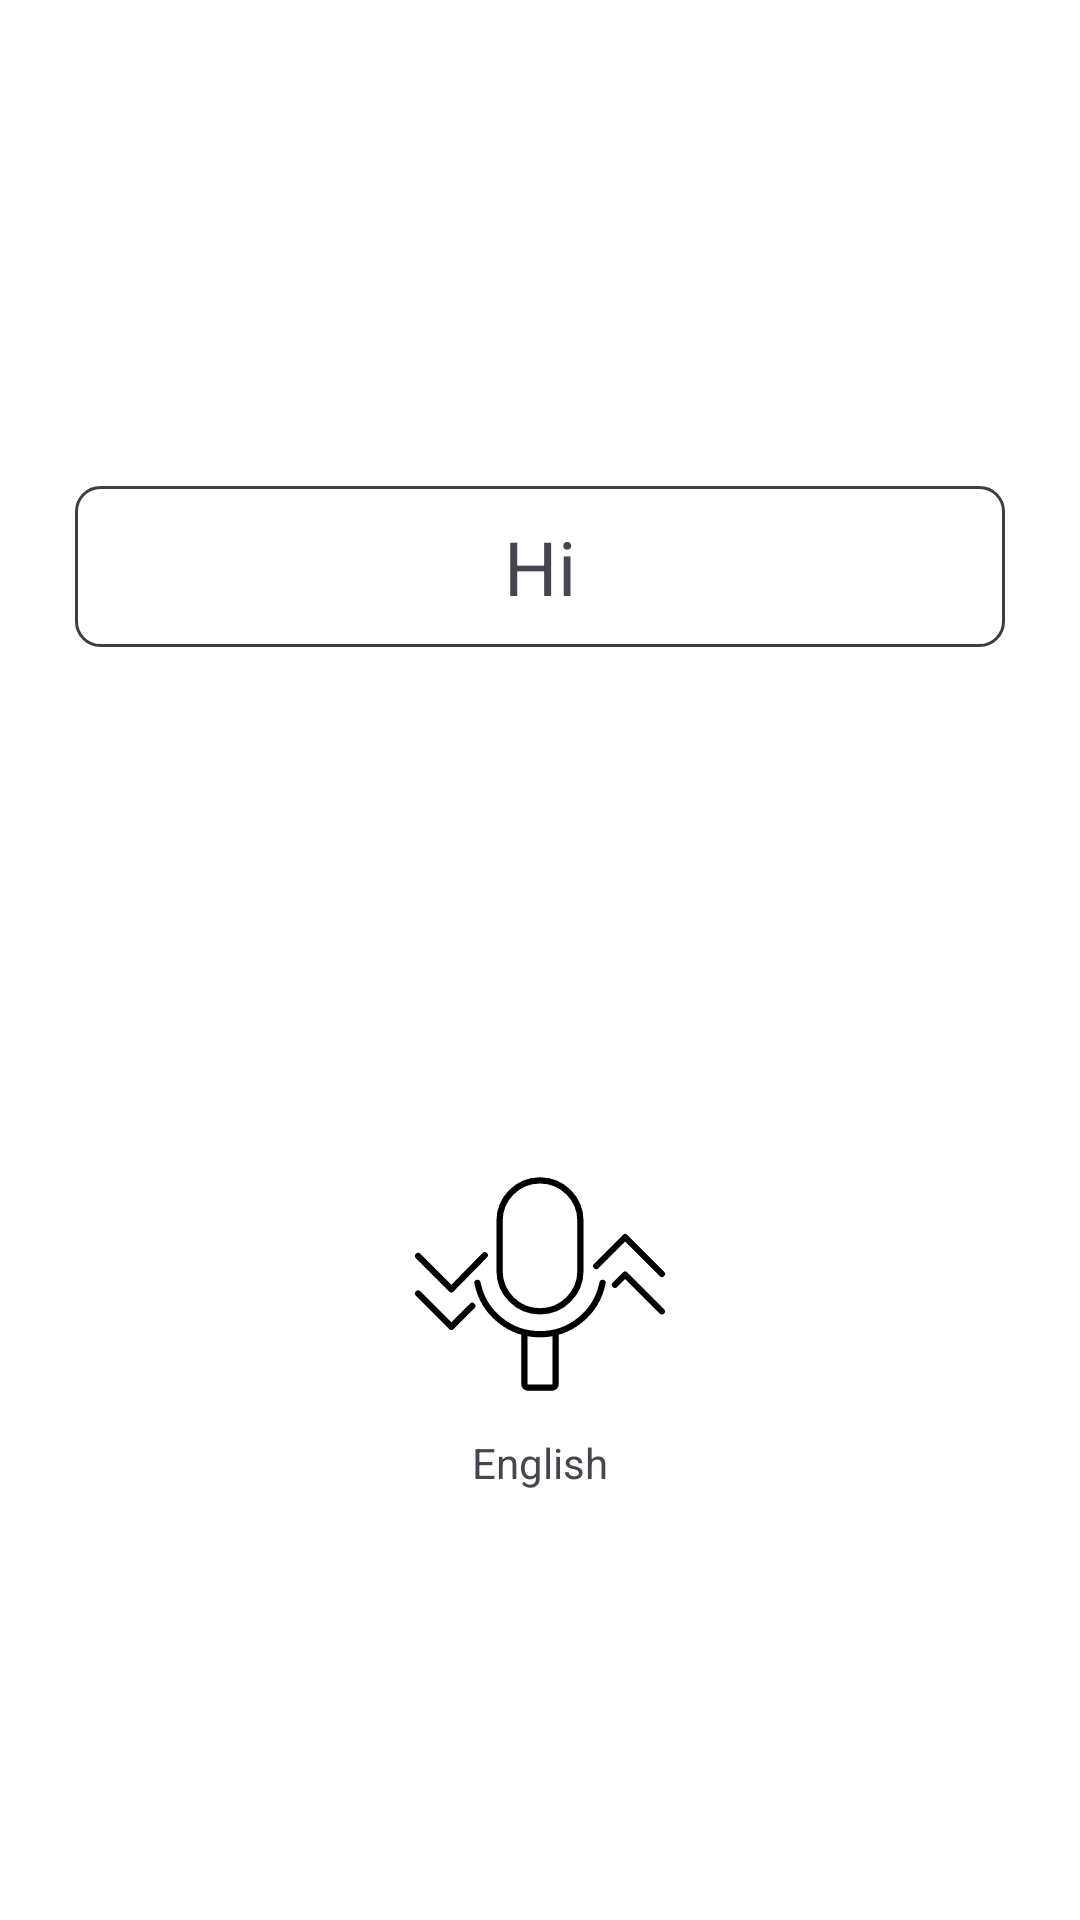

Locate icon controls on the screen. Image size 1080px×1920px, boxes as [x1=x1, y1=y1, x2=x2, y2=y2].
voice: [x1=414, y1=1177, x2=666, y2=1391]
